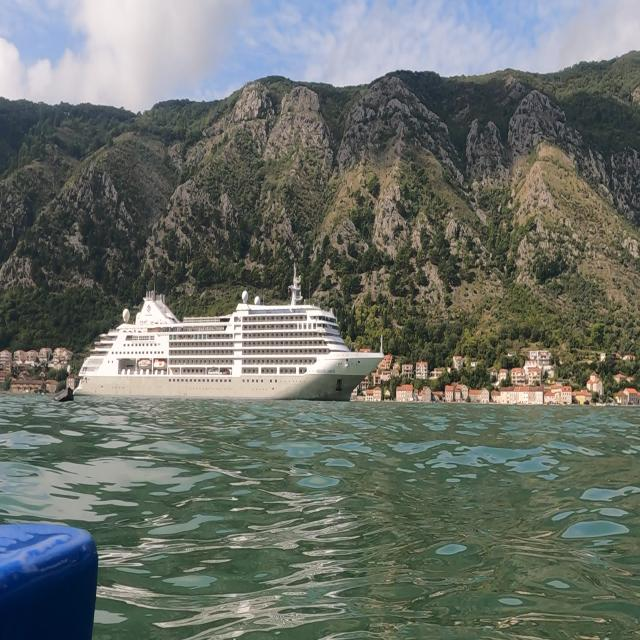boat: (70, 260, 386, 404)
buoy: (50, 386, 77, 408)
